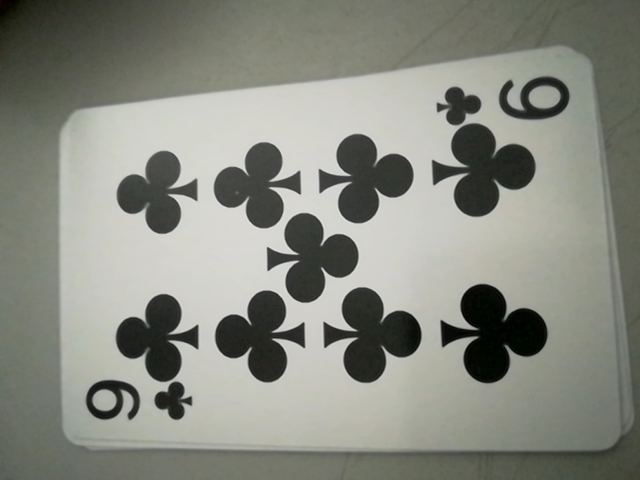mh 9: (433, 68, 574, 130), (80, 374, 197, 435)
